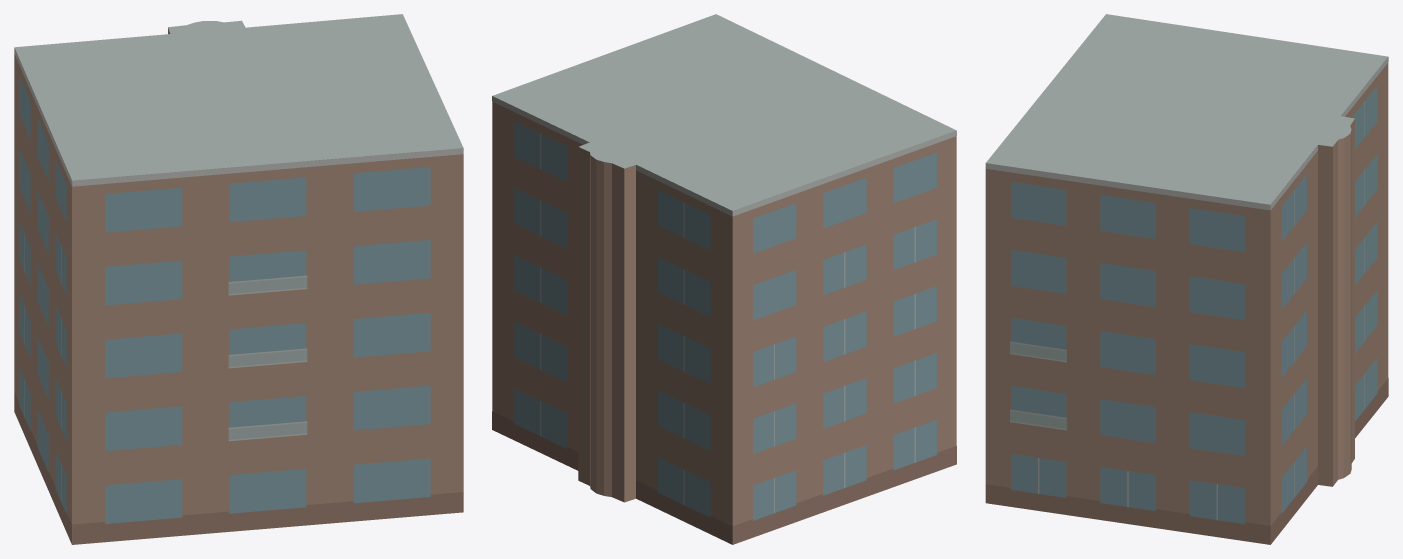
File: survey-upis-32999143.glb
3 views of the same model, side by side, from view 1: azimuth 30°, elevation 25°; view 2: azimuth 150°, elevation 25°; view 3: azimuth 270°, elevation 25° (orthographic). The views are drawn at different scales.
Parts seen in each view (by area): view 1: survey-upis-32999143.tmp; view 2: survey-upis-32999143.tmp; view 3: survey-upis-32999143.tmp.
Boxes of the visible parts, x1,y1,x2,y2 form: survey-upis-32999143.tmp: (14, 14, 463, 544); survey-upis-32999143.tmp: (492, 14, 956, 544); survey-upis-32999143.tmp: (985, 14, 1388, 544).
Bounding box in the file's own units: 17.58 × 14.6 × 15.68.
